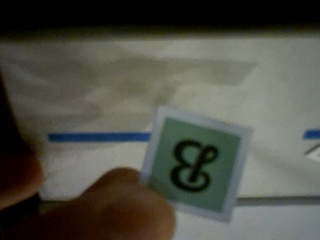B: (145, 115, 241, 214)
